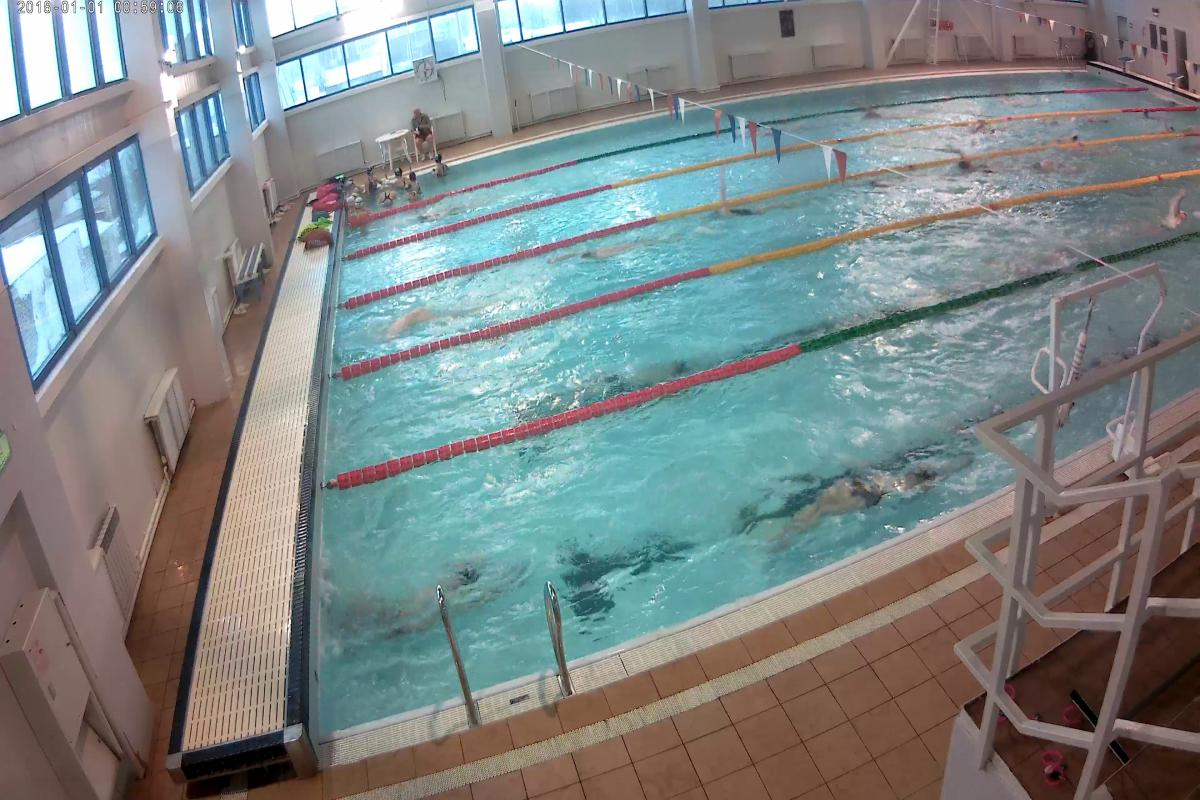swimmer: (786, 474, 929, 532)
